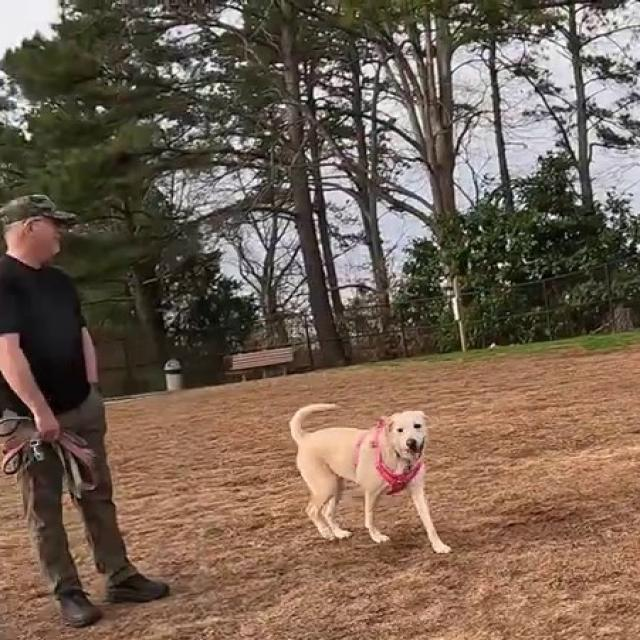Unleashed_Dog: (59, 402, 453, 556)
